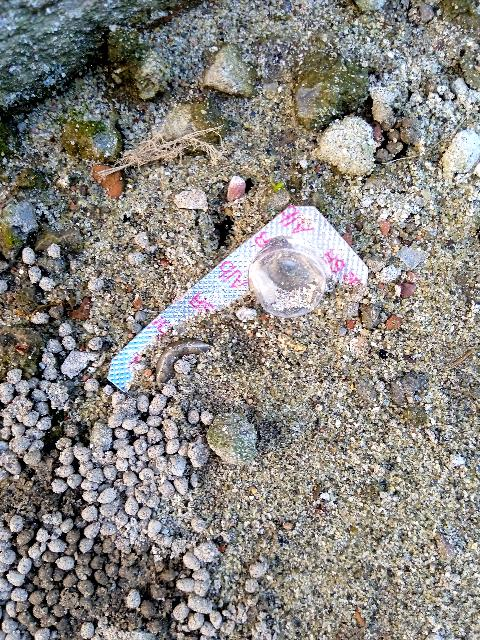medicine: (84, 181, 374, 407)
